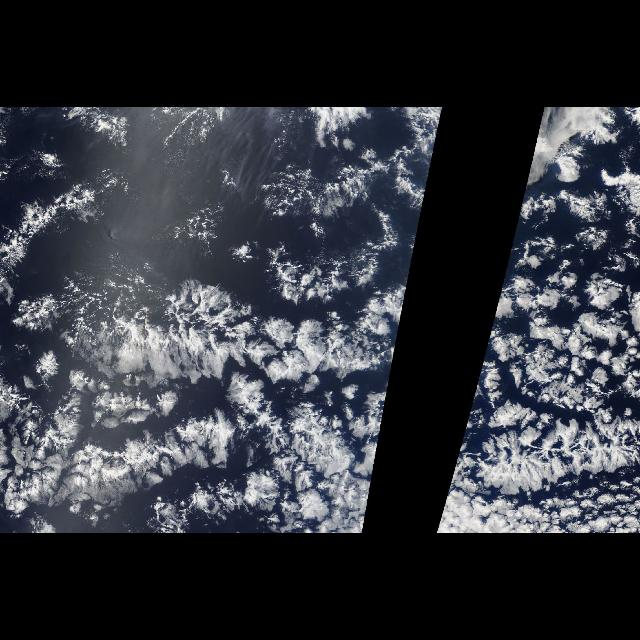Fish: (72, 242, 408, 396), (450, 376, 638, 500)
Flower: (468, 182, 640, 412)
